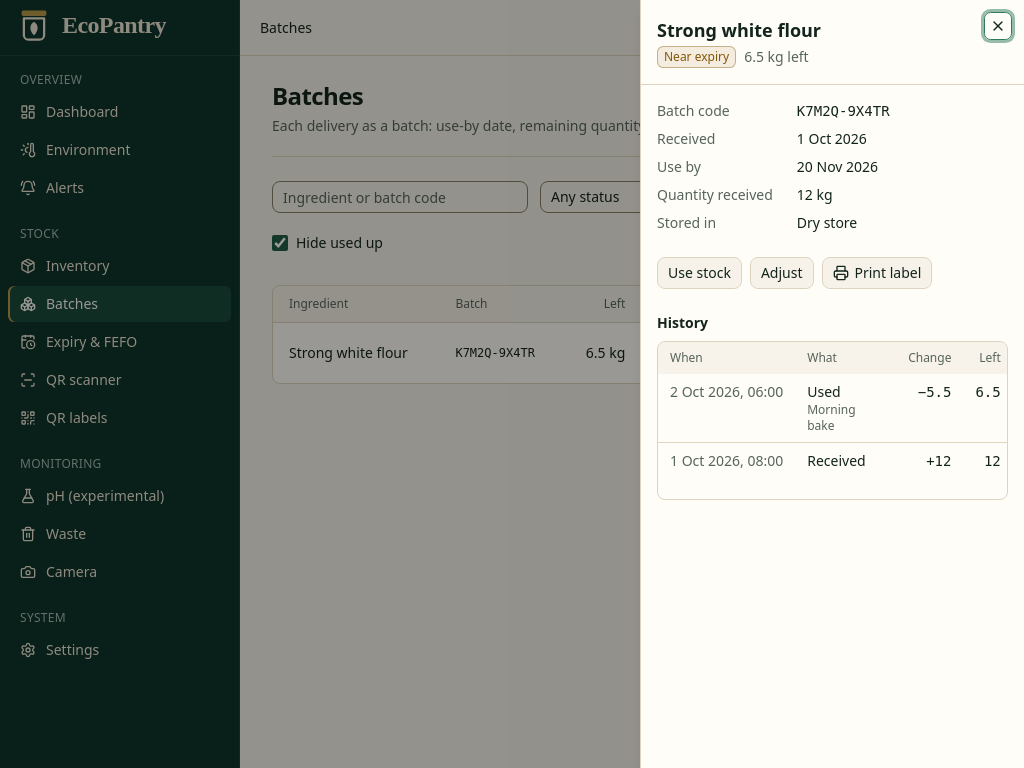
it: Batches page › takes stock out and refreshes
Click the button "Use stock" at (699, 273), box x1=657 y1=257 x2=742 y2=289
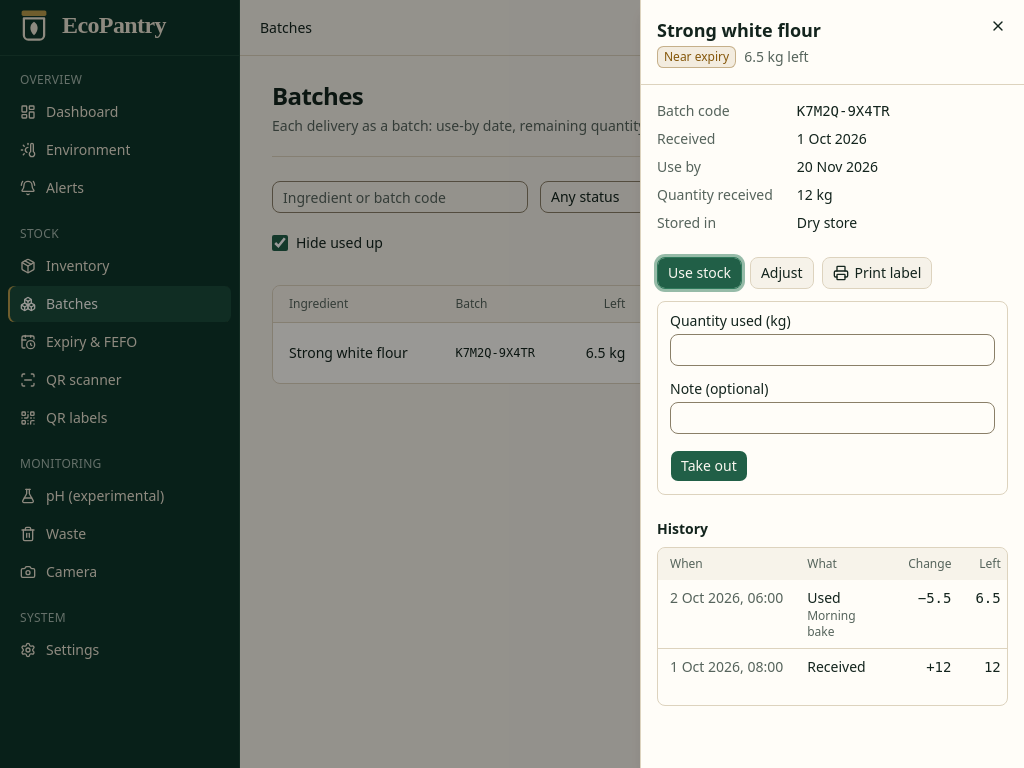
Click the button "Take out" at (709, 466), box x1=670 y1=450 x2=748 y2=482
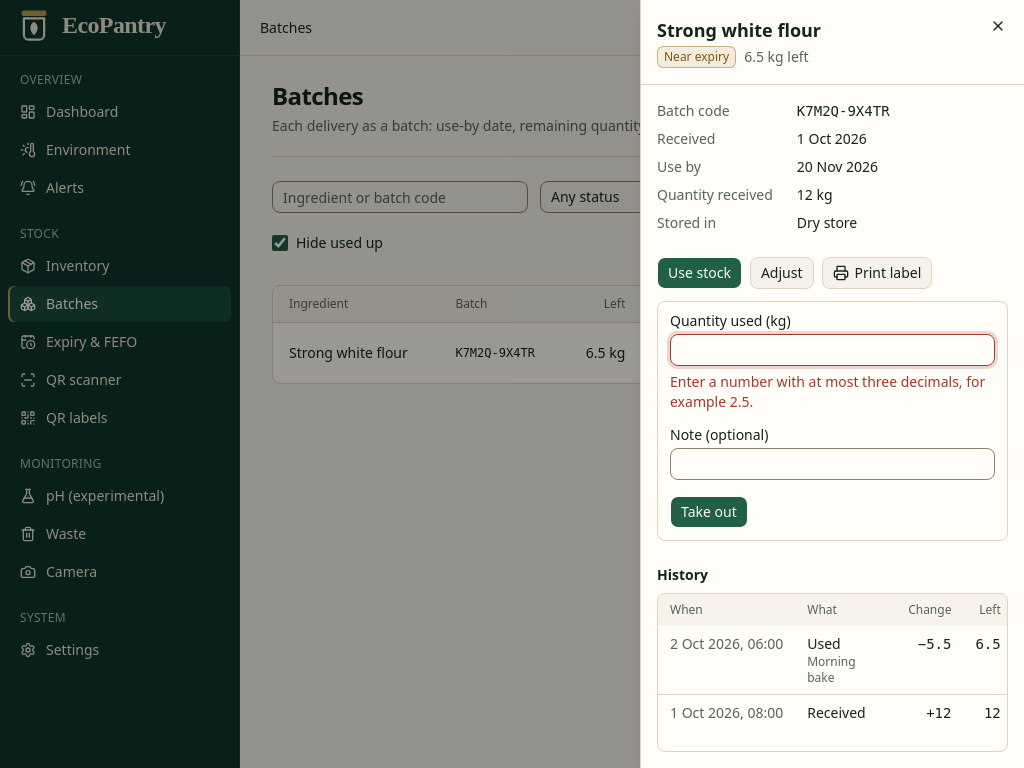
Result: the text "Enter a number with at most three decimals, for example 2.5." is shown at x1=670 y1=372 x2=995 y2=412
Type "2" into the field labelled "Quantity used (kg)" at (832, 350), box x1=670 y1=334 x2=995 y2=366
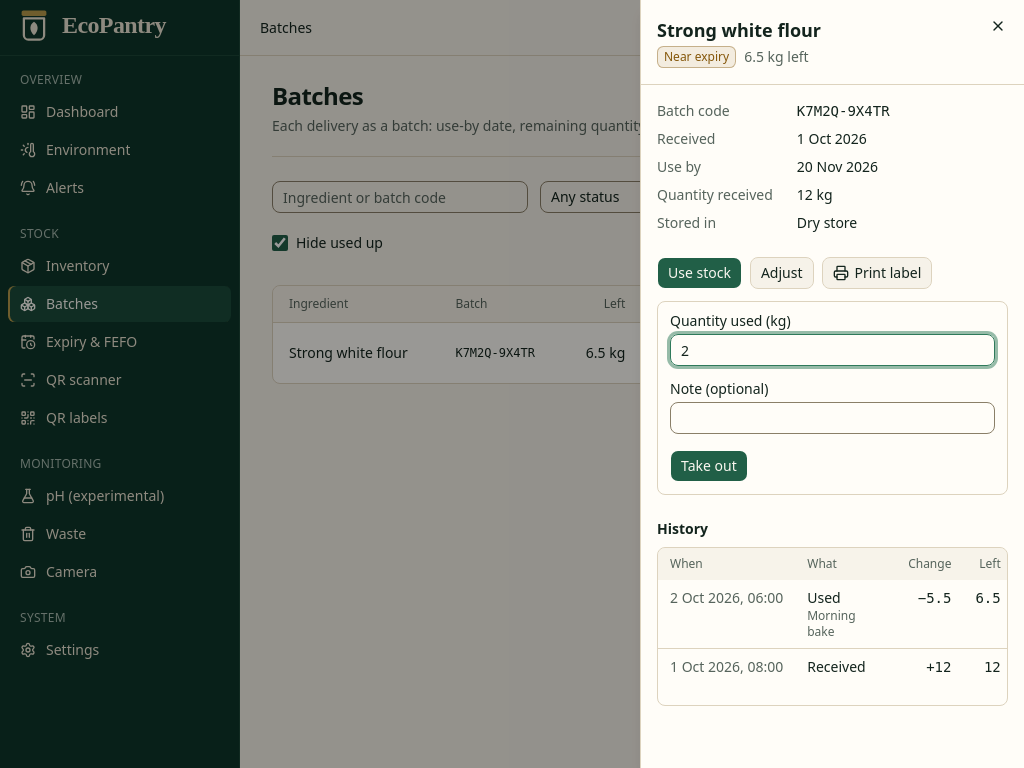
Click the button "Take out" at (709, 466), box x1=670 y1=450 x2=748 y2=482
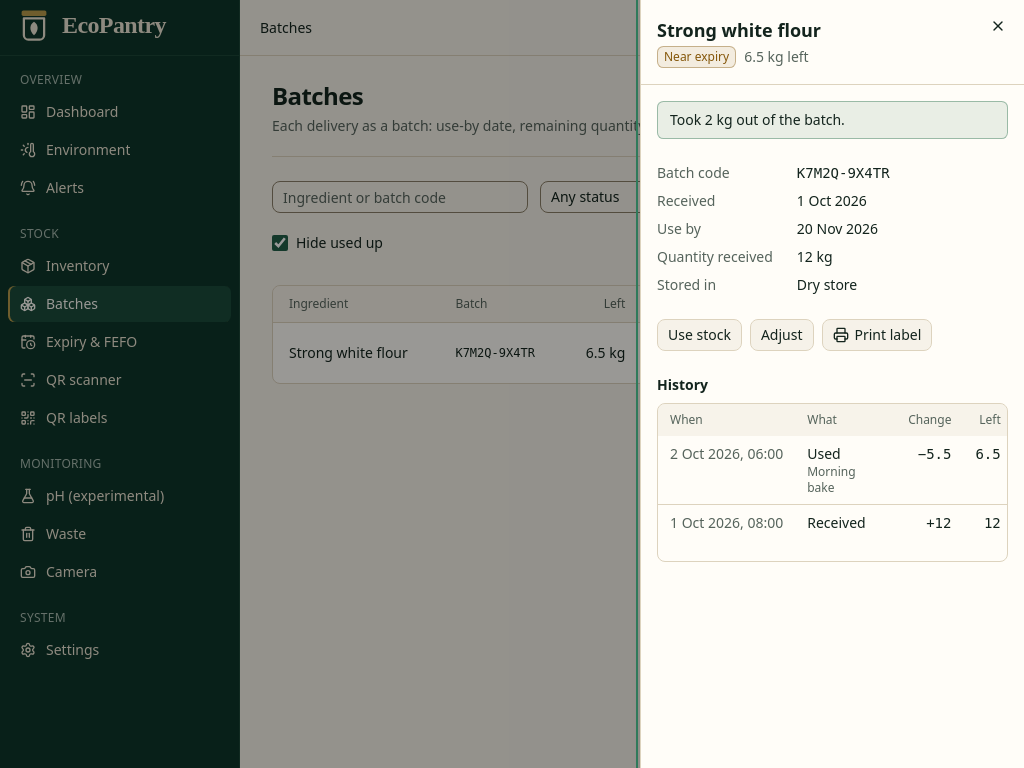
Result: the text "Took 2 kg out of the batch." is shown at x1=657 y1=101 x2=1008 y2=139
